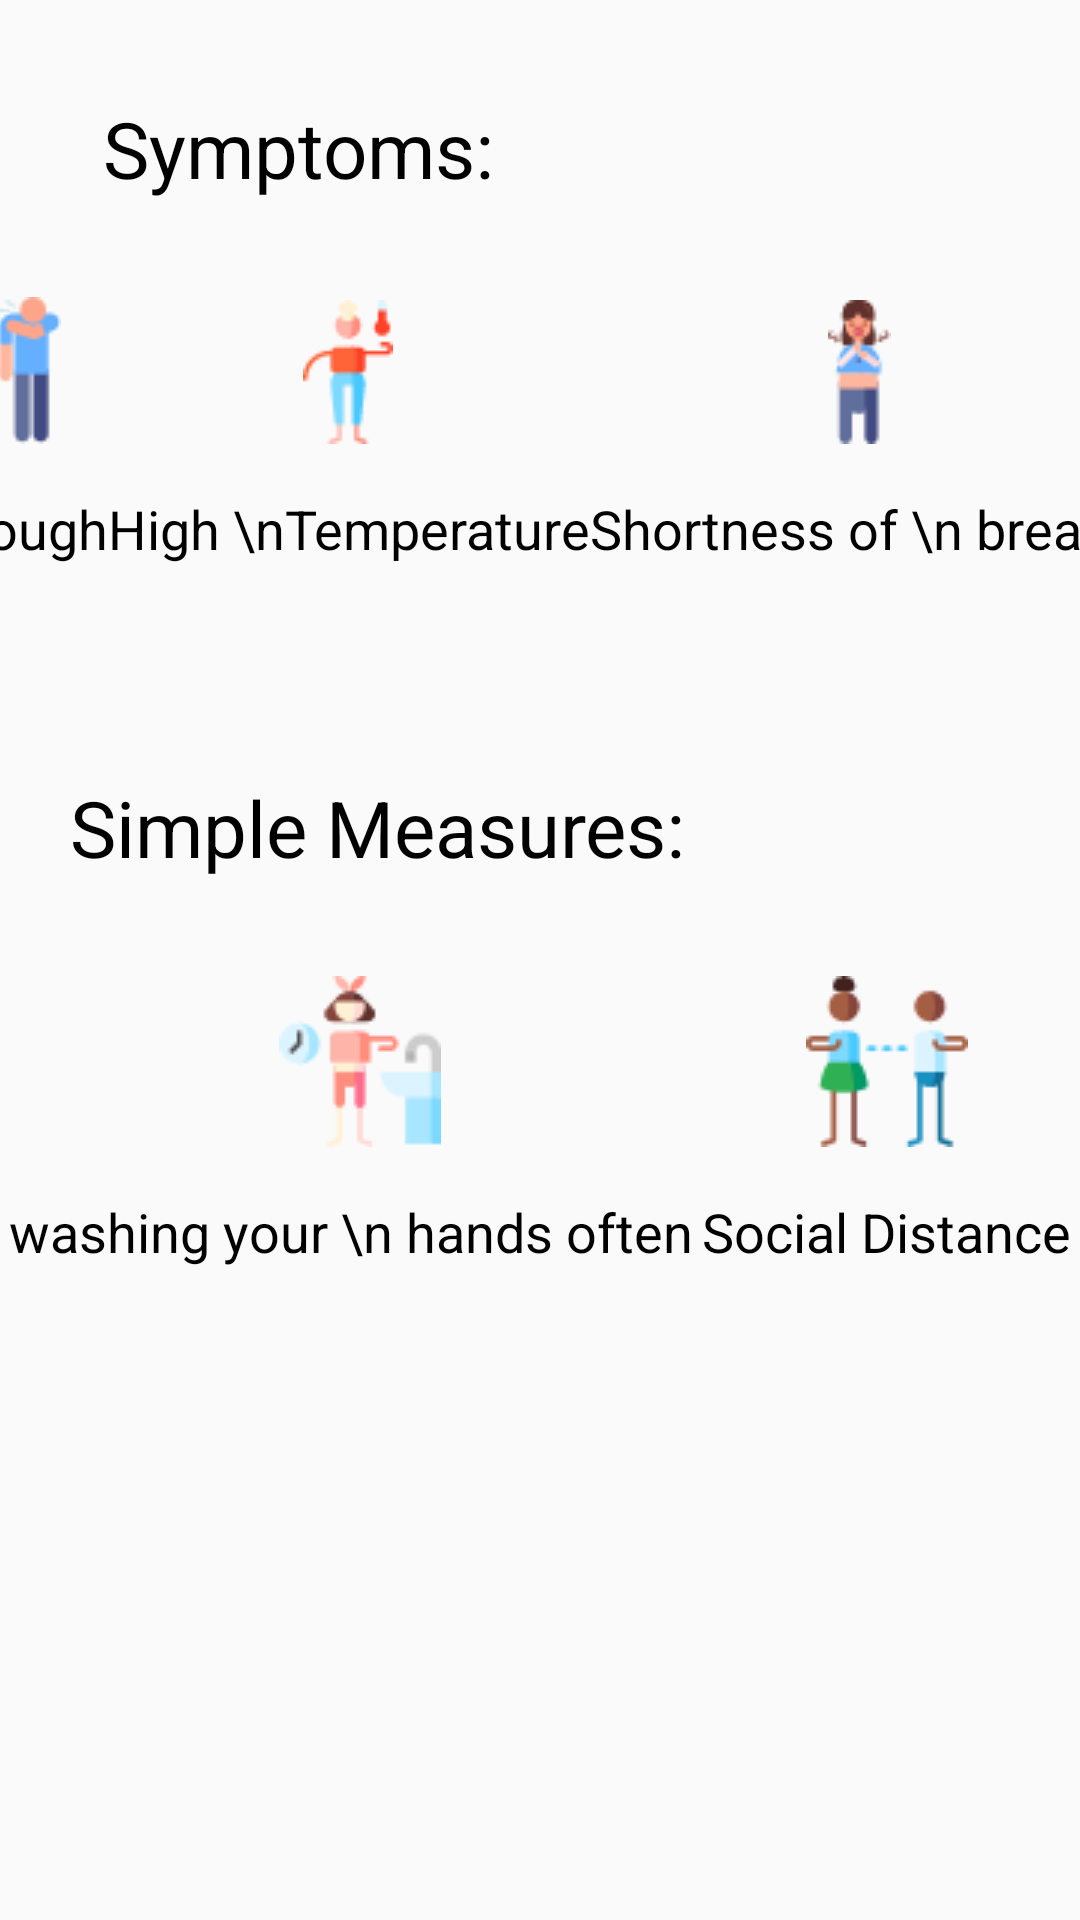

Point at icon controls on the screen. Image size 1080 × 1920, points as (x,y).
high temperature: (348,372)
wash your hands regularly: (360,1061)
